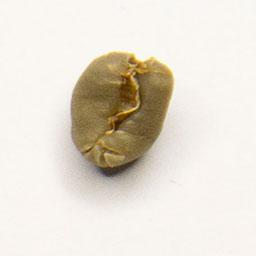peaberry: (67, 47, 176, 172)
